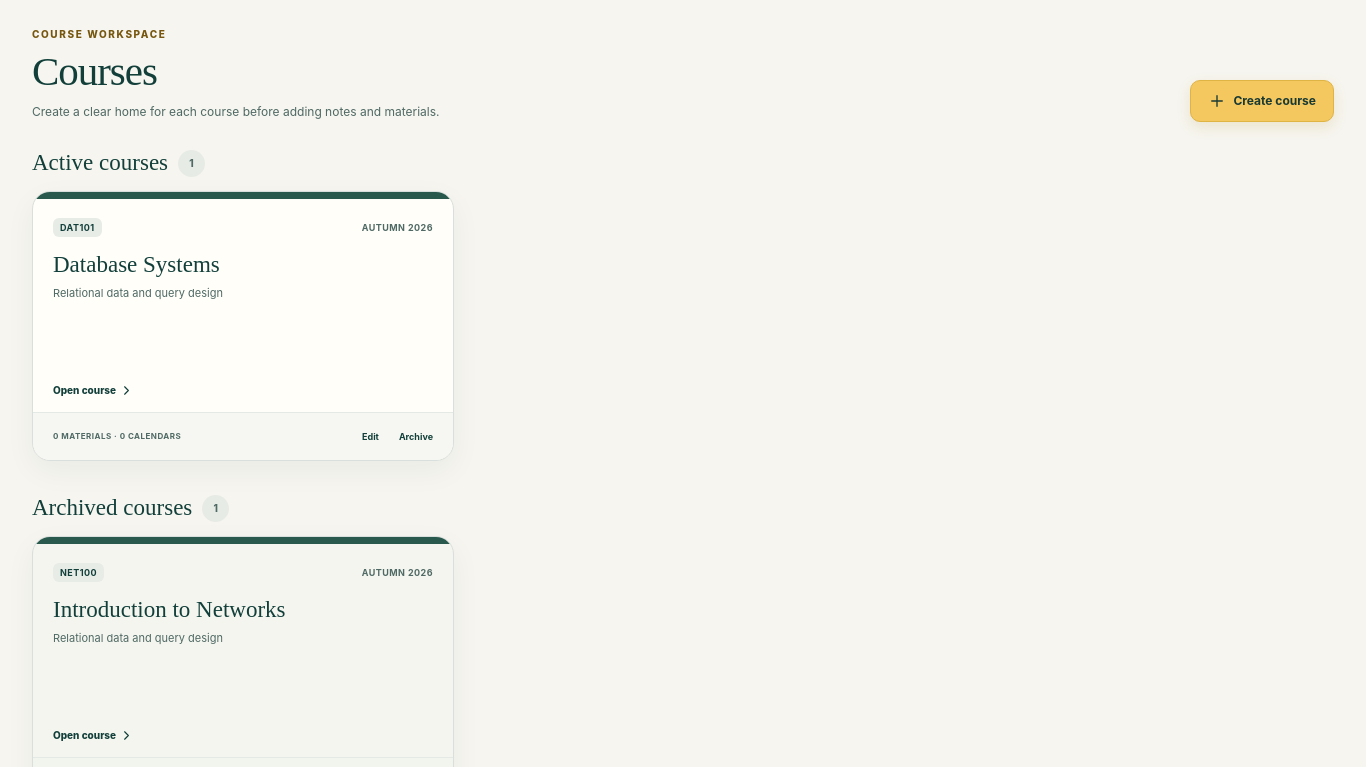
Test case: CoursesPage › shows active and archived course cards and opens course tabs
This screenshot has width=1366, height=767.
Expected: the heading "Active courses" is shown, [32,150,168,176]
Expected: the heading "Archived courses" is shown, [32,495,192,521]
Step 1. Click the button with aria-label "Open Database Systems" → (77, 228), box [33,199,453,412]
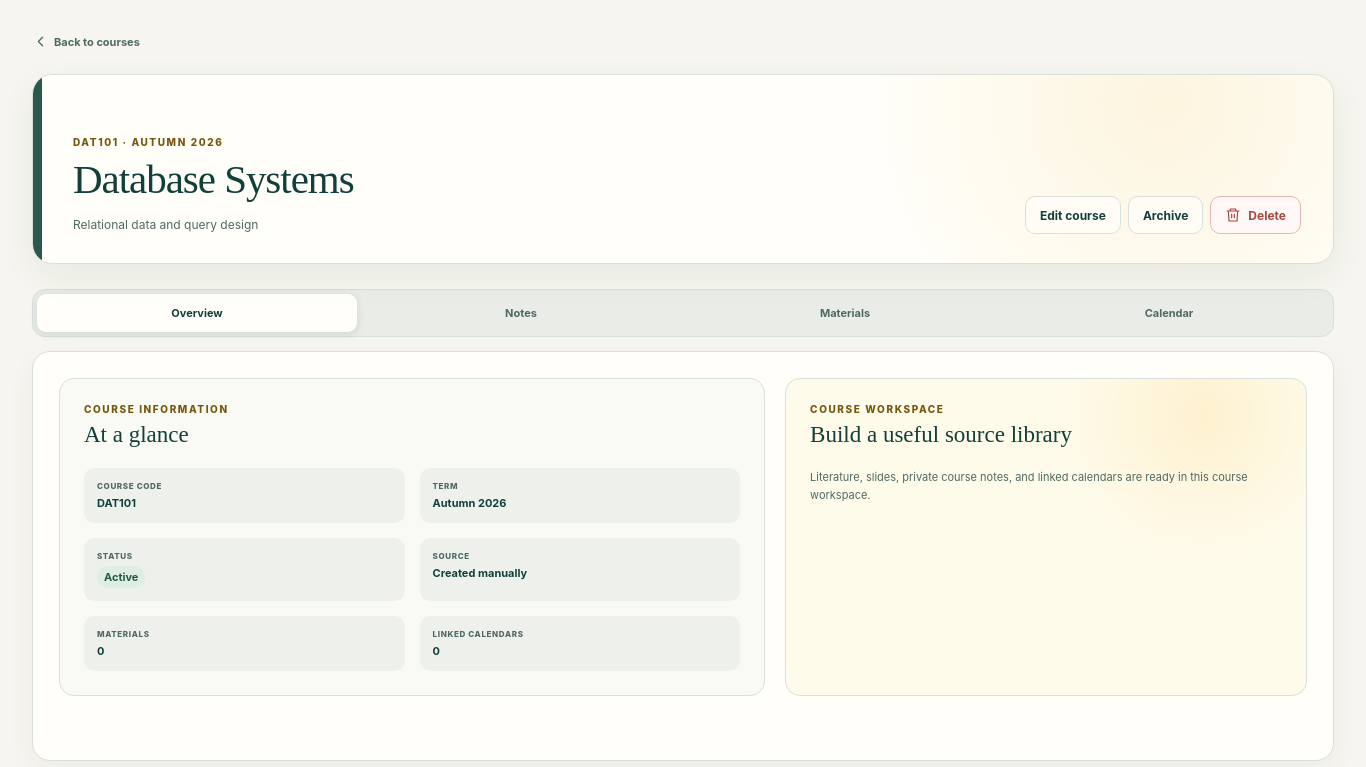
Expected: the heading "Database Systems" is shown, [73,156,354,202]
Expected: the text "Created manually" is shown, [432,566,527,580]
Step 2. Click the tab "Notes" → (521, 313), box [361,294,681,332]
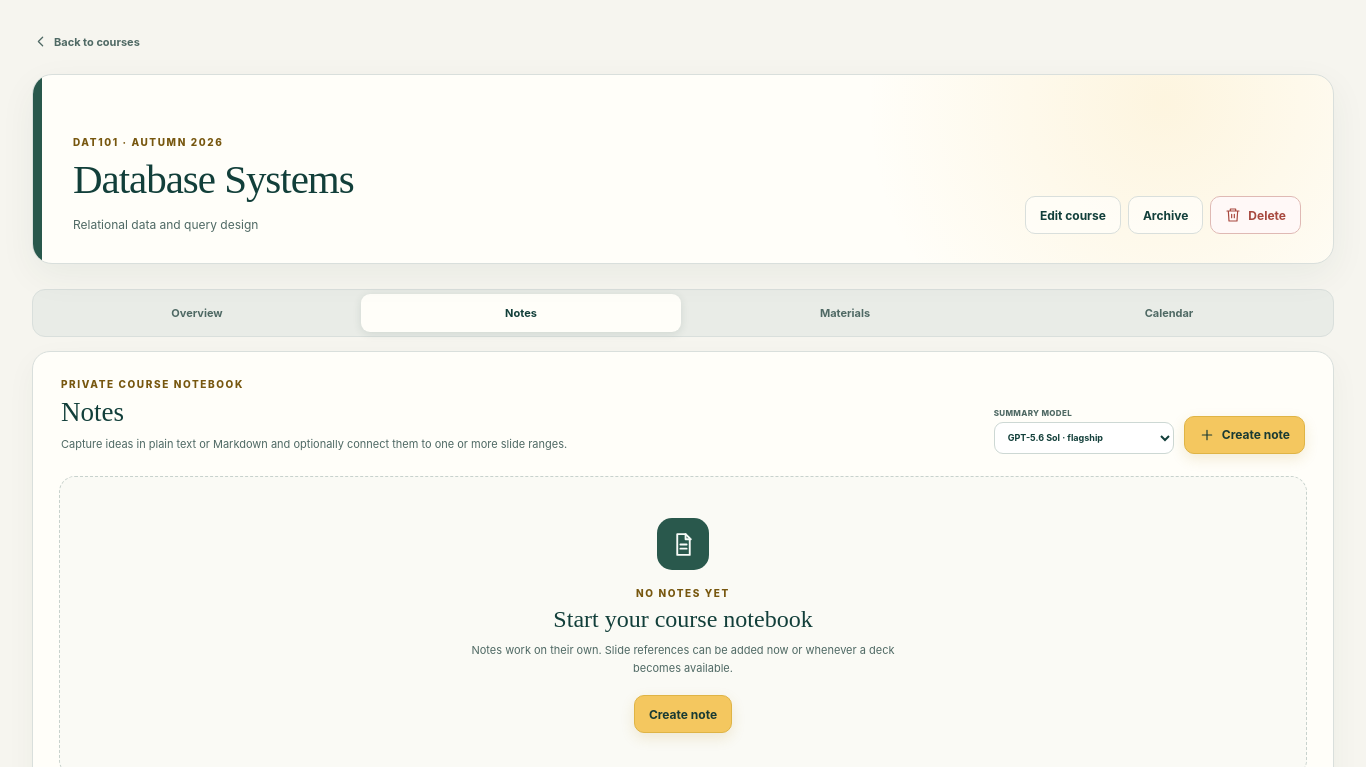
Expected: the heading "Start your course notebook" is shown, [553,606,813,633]
Step 3. Click the button "Back to courses" → (86, 42), box [32,28,140,55]
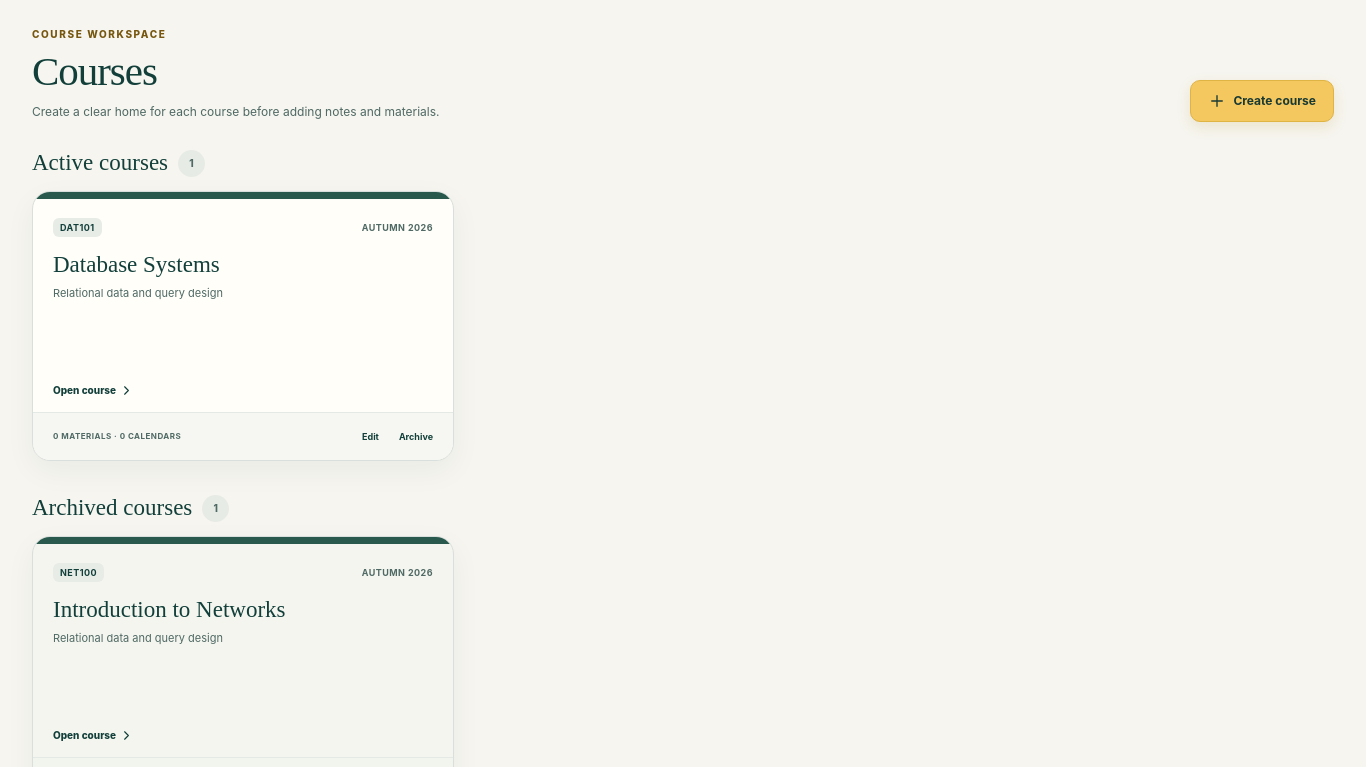
Expected: the heading "Active courses" is shown, [32,150,168,176]
